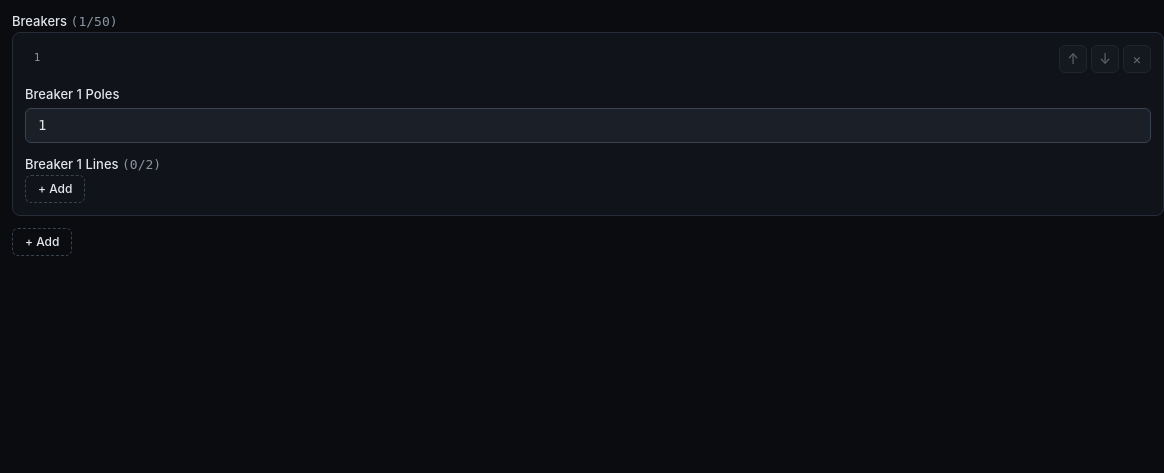
Test: SchemaField shapes › array-of-object: rows recurse through SchemaField for their own nested fields (labels qualified by row, e.g. 'Breaker 1 Poles', so they don't collide across row
Expected: the element with id "block-0" is shown, [12,32,1163,216]
Expected: the number field labelled "Breaker 1 Poles" holds "1", [25,108,1151,143]
Click the button with aria-label "Add Breakers row". click: [42, 242]
box: [12,228,72,256]
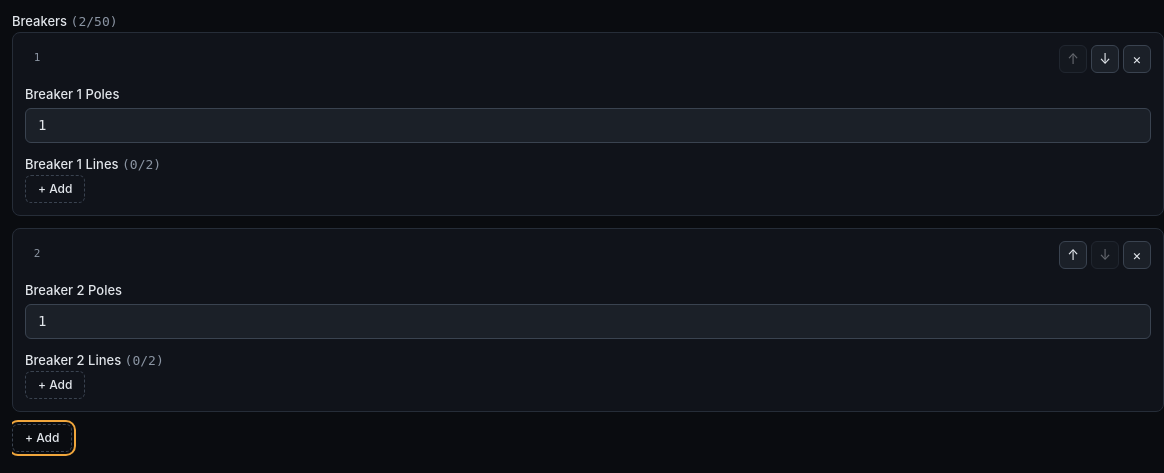
Expected: the number field labelled "Breaker 1 Poles" is shown, [25,108,1151,143]
Expected: the element with id "block-1" is shown, [12,228,1163,412]
Expected: the number field labelled "Breaker 2 Poles" is shown, [25,304,1151,339]
Click the button named "Remove Breakers 2". click: [1137, 254]
box: [1123,240,1151,268]
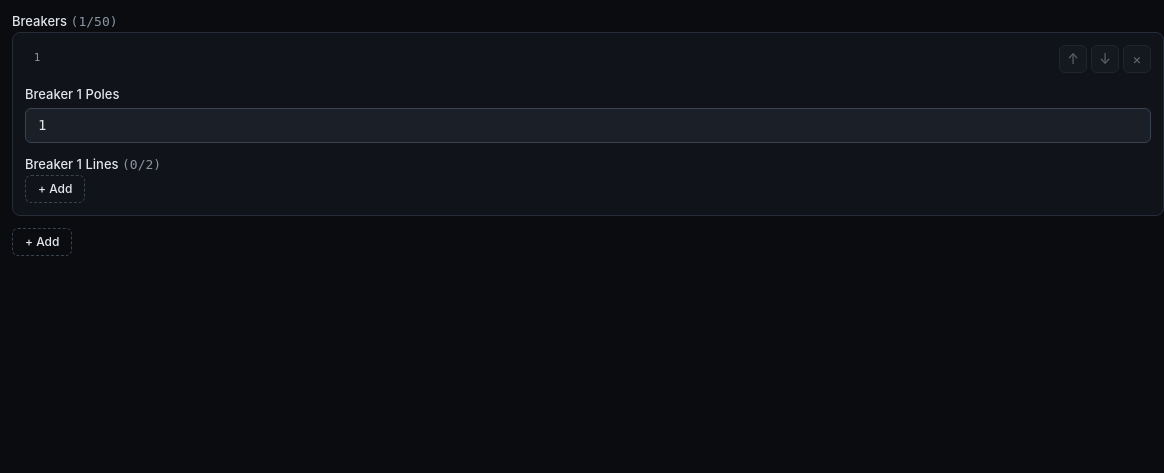
Expected: the number field labelled "Breaker 1 Poles" is shown, [25,108,1151,143]
Expected: the element with id "block-1" is gone
Expected: the label labelled "Breaker 2 Poles" is gone
